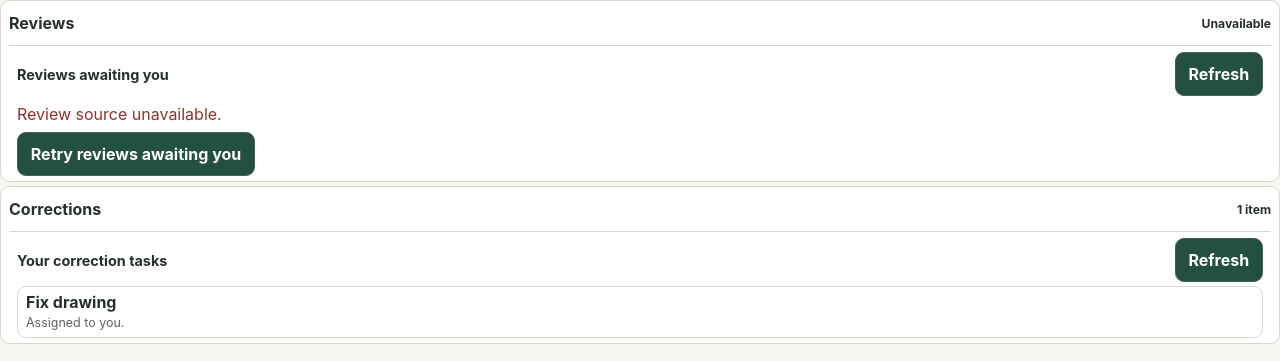
MyWorkAttention › keeps failed and denied sources visible while hiding an unrelated confirmed zero
Expected: the message shows "Review source unavailable.", [17,104,222,124]
Expected: the link "Fix drawing Assigned to you." is shown, [17,286,1263,338]
What coordinates should you click on to do the following:
click the button "Retry reviews awaiting you"
I would click on:
 (136, 154)
Its box is [17,132,255,176].
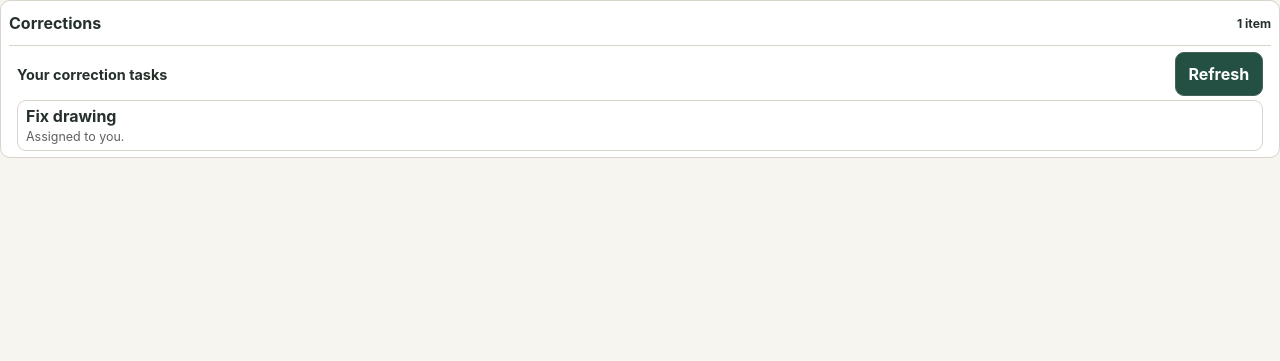
Expected: the text "Review source unavailable." is gone
